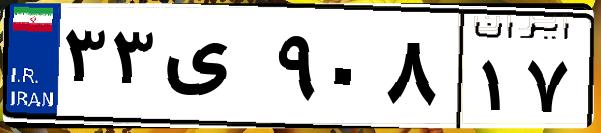0: (330, 28, 385, 110)
1: (475, 38, 525, 113)
3: (57, 26, 110, 100), (110, 28, 158, 98)
7: (525, 38, 570, 115)
8: (385, 28, 445, 110)
9: (270, 28, 330, 110)
ی: (158, 20, 270, 120)
